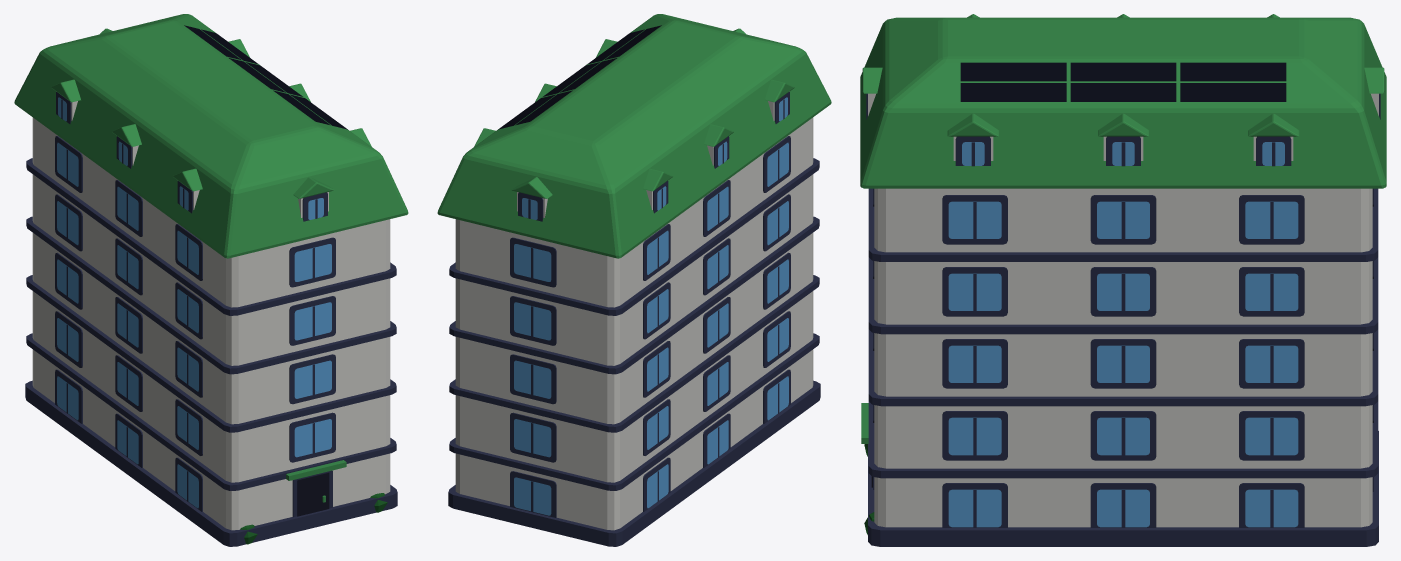
The model's file is house-1x2-5f-mansard-a-solar.glb.
3 views of the same model, side by side, from view 1: azimuth 30°, elevation 25°; view 2: azimuth 150°, elevation 25°; view 3: azimuth 270°, elevation 25° (orthographic). The views are drawn at different scales.
Visible parts, largest first — view 1: house-1x2-5f-mansard-a-solar; view 2: house-1x2-5f-mansard-a-solar; view 3: house-1x2-5f-mansard-a-solar.
Boxes of the visible parts, box(x1,y1,x2,y2) form: house-1x2-5f-mansard-a-solar: box(14, 14, 408, 546); house-1x2-5f-mansard-a-solar: box(437, 14, 831, 546); house-1x2-5f-mansard-a-solar: box(860, 14, 1386, 546).
Bounding box in the file's own units: 0.9876 × 1.9 × 1.99.
1 material, 1 textured.
